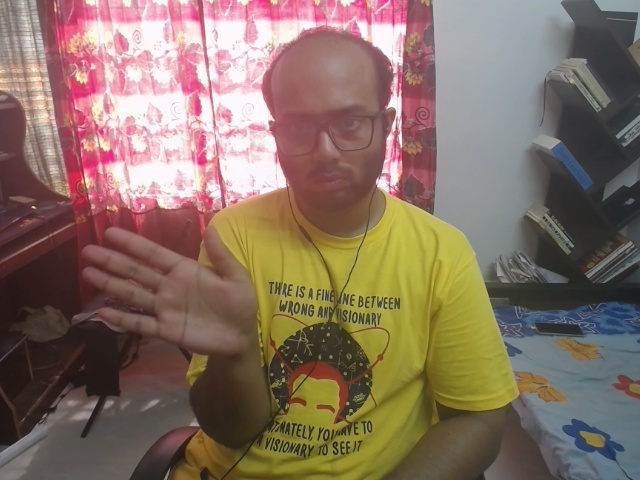south: (69, 199, 305, 383)
